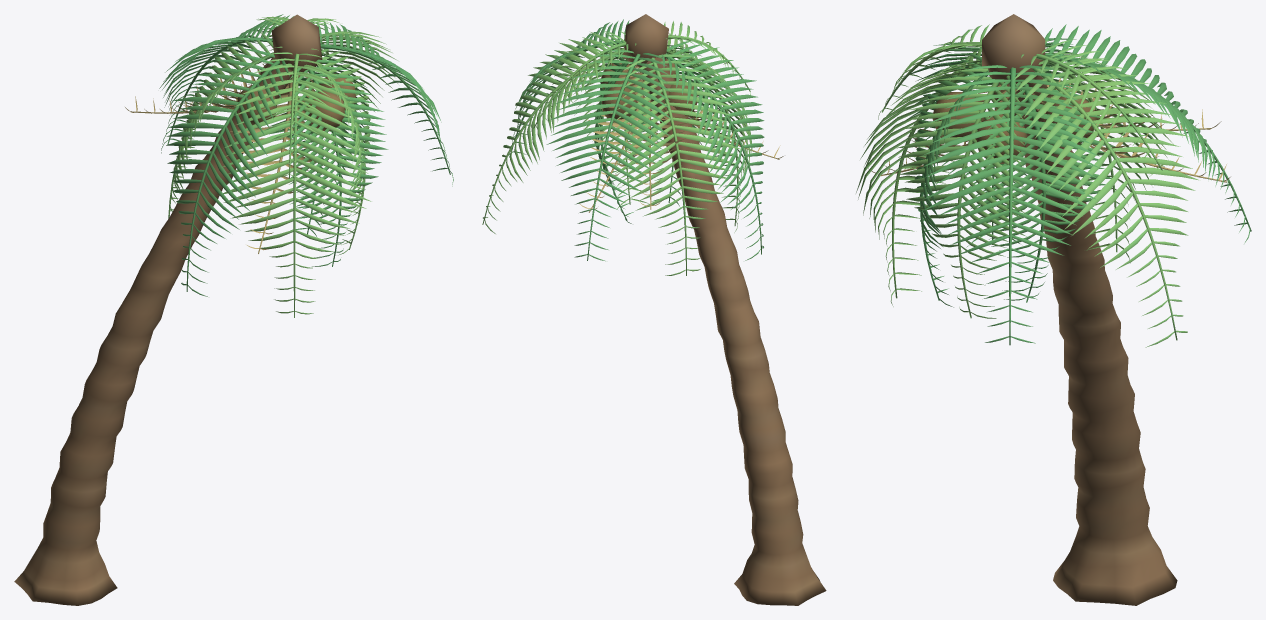
The model's file is palm_b.efb73ddf.glb.
3 renders of one model, left to right at view 1: azimuth 30°, elevation 25°; view 2: azimuth 150°, elevation 25°; view 3: azimuth 270°, elevation 25°, orthographic. The views are drawn at different scales.
Parts seen in each view (by area): view 1: palm_b; view 2: palm_b; view 3: palm_b.
Part boxes in pixels (bbox=[...]): palm_b: bbox=[14, 14, 453, 605]; palm_b: bbox=[482, 14, 826, 605]; palm_b: bbox=[856, 14, 1251, 605].
Size of the model in its own units: 5.06 by 6.99 by 3.69.
